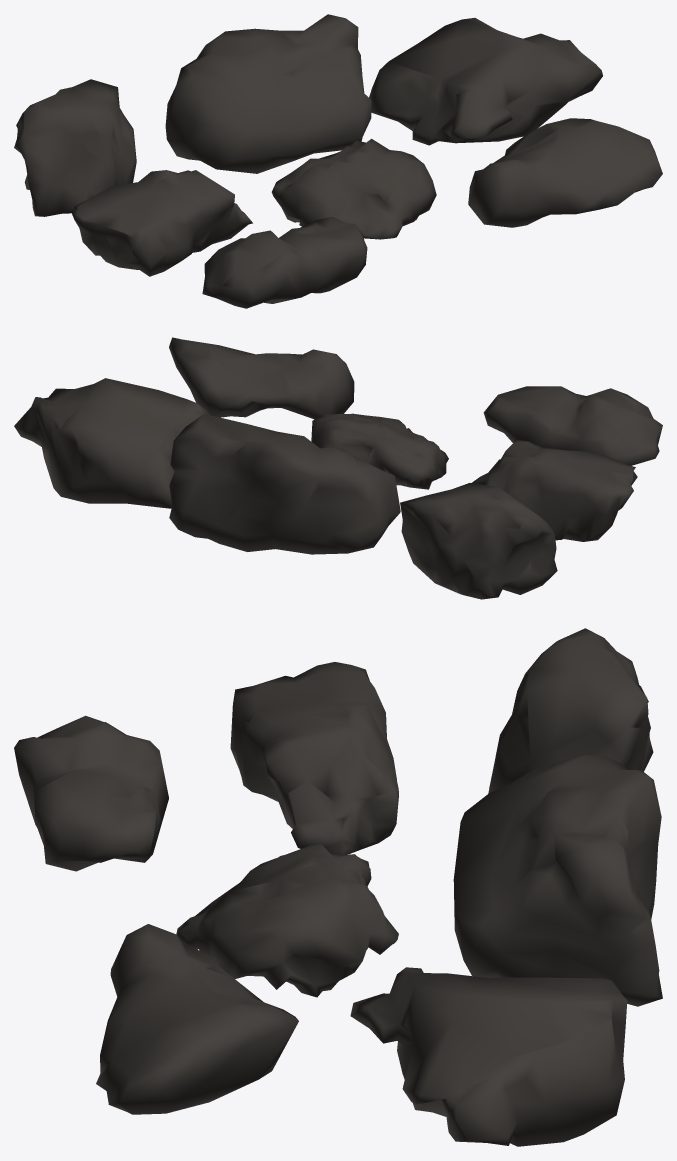
File: Rocks_New.fbx
3 views of the same model, one above another, from view 1: azimuth 30°, elevation 25°; view 2: azimuth 150°, elevation 25°; view 3: azimuth 270°, elevation 25° (orthographic). The views are drawn at different scales.
Visible parts, largest first — view 1: rock_1, rock_6, rock_5, rock_4, rock_7, rock_2, rock_3; view 2: rock_1, rock_6, rock_7, rock_5, rock_4, rock_3, rock_2; view 3: rock_1, rock_6, rock_5, rock_4, rock_2, rock_3, rock_7.
Boxes of the visible parts, x1,y1,x2,y2 form: rock_1: [165, 14, 371, 173]; rock_6: [369, 17, 602, 145]; rock_5: [468, 118, 662, 227]; rock_4: [72, 170, 252, 276]; rock_7: [14, 79, 136, 216]; rock_2: [271, 138, 436, 239]; rock_3: [202, 216, 367, 308]; rock_1: [169, 414, 400, 554]; rock_6: [14, 378, 208, 508]; rock_7: [400, 483, 557, 599]; rock_5: [169, 337, 354, 419]; rock_4: [472, 439, 637, 541]; rock_3: [483, 386, 662, 465]; rock_2: [311, 413, 448, 489]; rock_1: [453, 755, 662, 1006]; rock_6: [350, 967, 627, 1146]; rock_5: [96, 924, 298, 1114]; rock_4: [230, 662, 398, 855]; rock_2: [176, 844, 398, 997]; rock_3: [14, 715, 168, 871]; rock_7: [488, 628, 653, 793].
Bounding box in the file's own units: 213 × 40.47 × 136.
